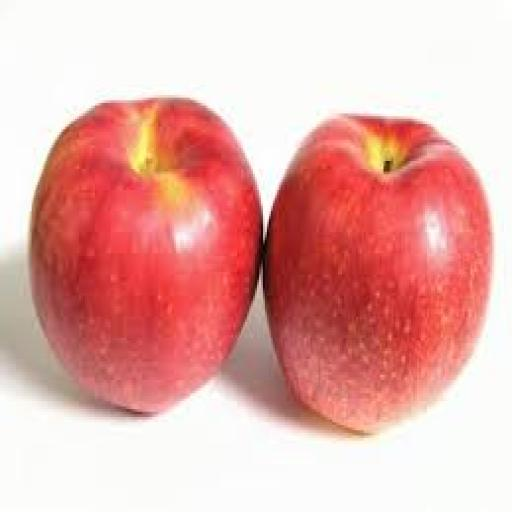apple: (30, 98, 262, 411), (265, 117, 492, 432)
